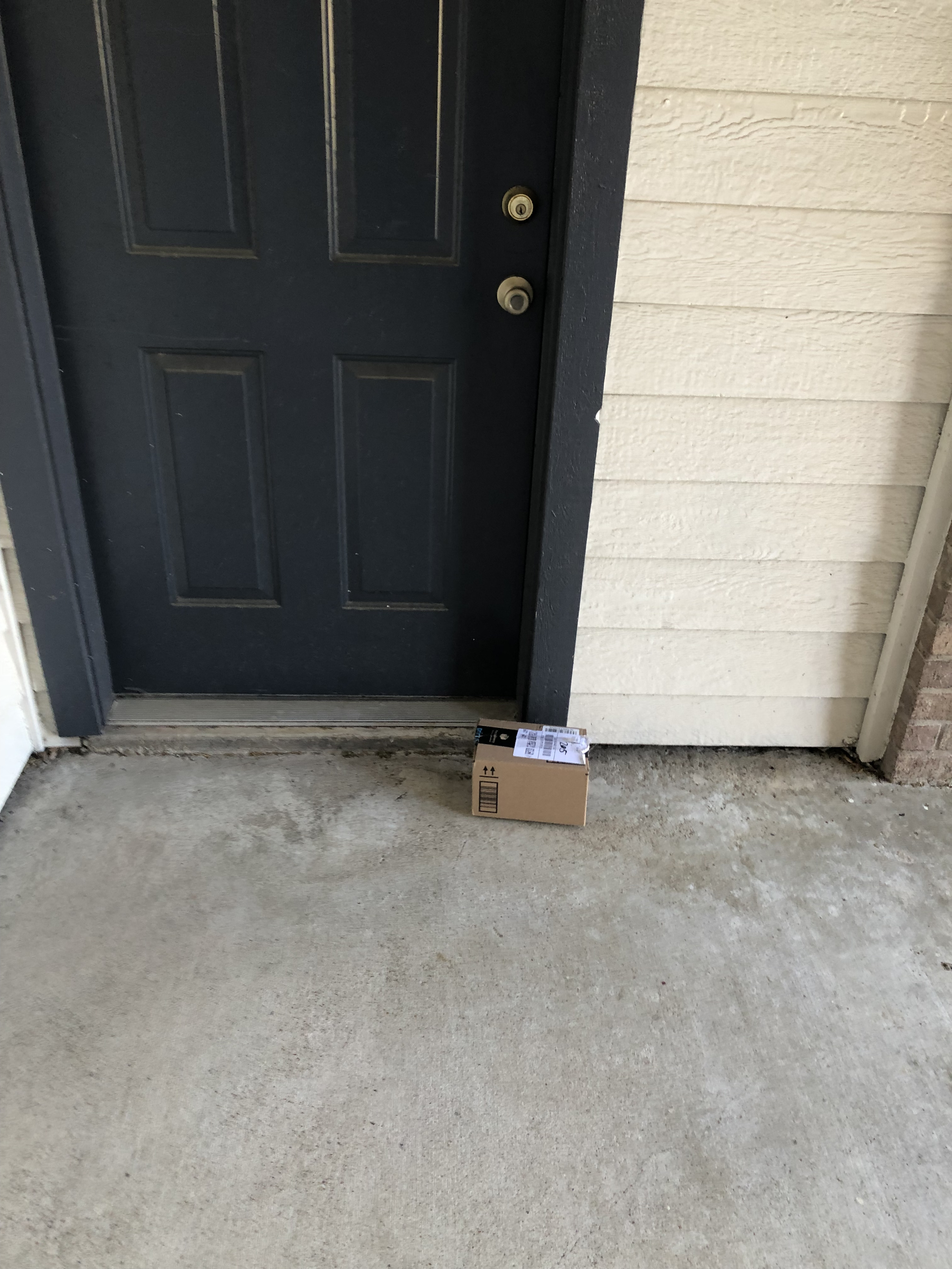package: (459, 711, 606, 833)
